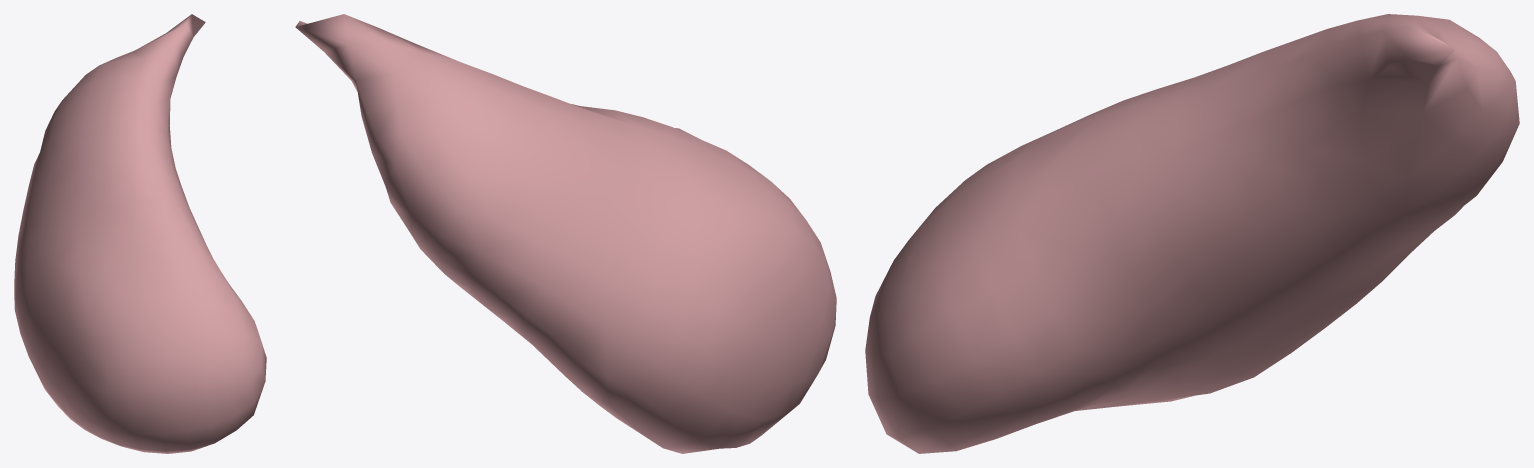
3 renders of one model, left to right at view 1: azimuth 30°, elevation 25°; view 2: azimuth 150°, elevation 25°; view 3: azimuth 270°, elevation 25°, orthographic. The views are drawn at different scales.
Visible parts, largest first — view 1: ZA_78c981c530d773bf; view 2: ZA_78c981c530d773bf; view 3: ZA_78c981c530d773bf.
Boxes of the visible parts, <box> form: ZA_78c981c530d773bf: <box>14,14,266,453</box>; ZA_78c981c530d773bf: <box>295,14,836,453</box>; ZA_78c981c530d773bf: <box>865,14,1519,453</box>.
Bounding box in the file's own units: 0.0362 × 0.0435 × 0.0483.
